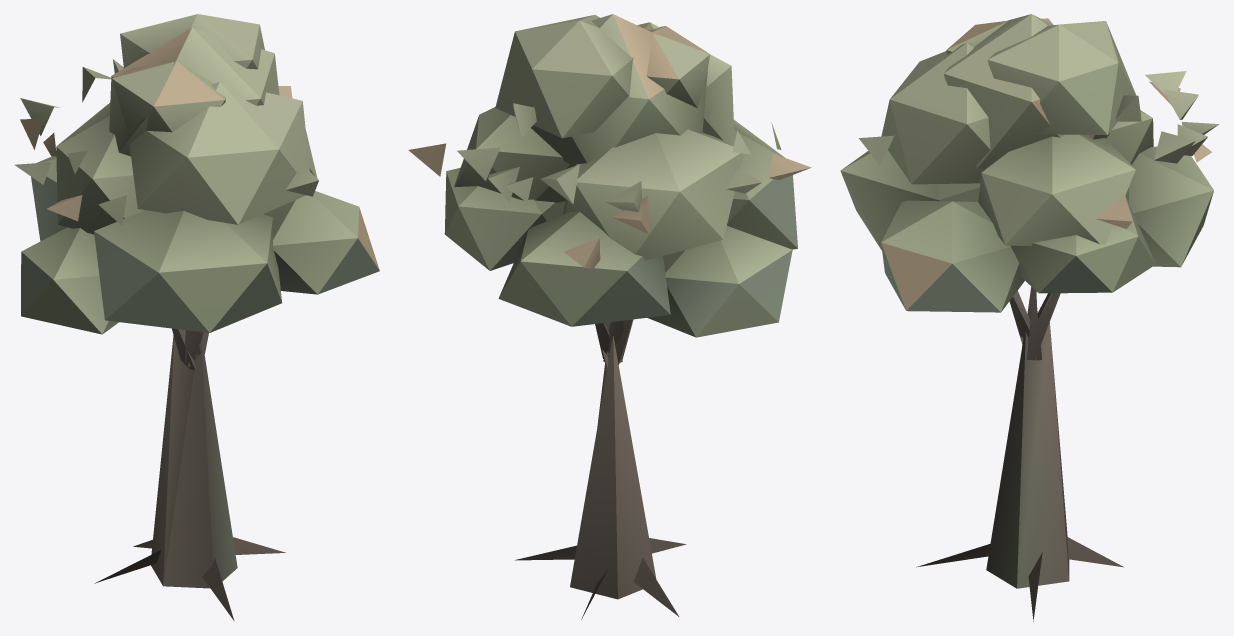
The model's file is maple.lod2.glb.
The picture shows the model from 3 angles, left to right: view 1: azimuth 30°, elevation 25°; view 2: azimuth 150°, elevation 25°; view 3: azimuth 270°, elevation 25°; orthographic projection. The views are drawn at different scales.
Size of the model in its own units: 3.53 by 5.85 by 3.59.
